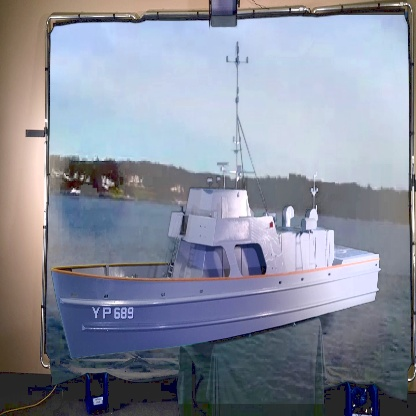YP689: (51, 43, 382, 364)
